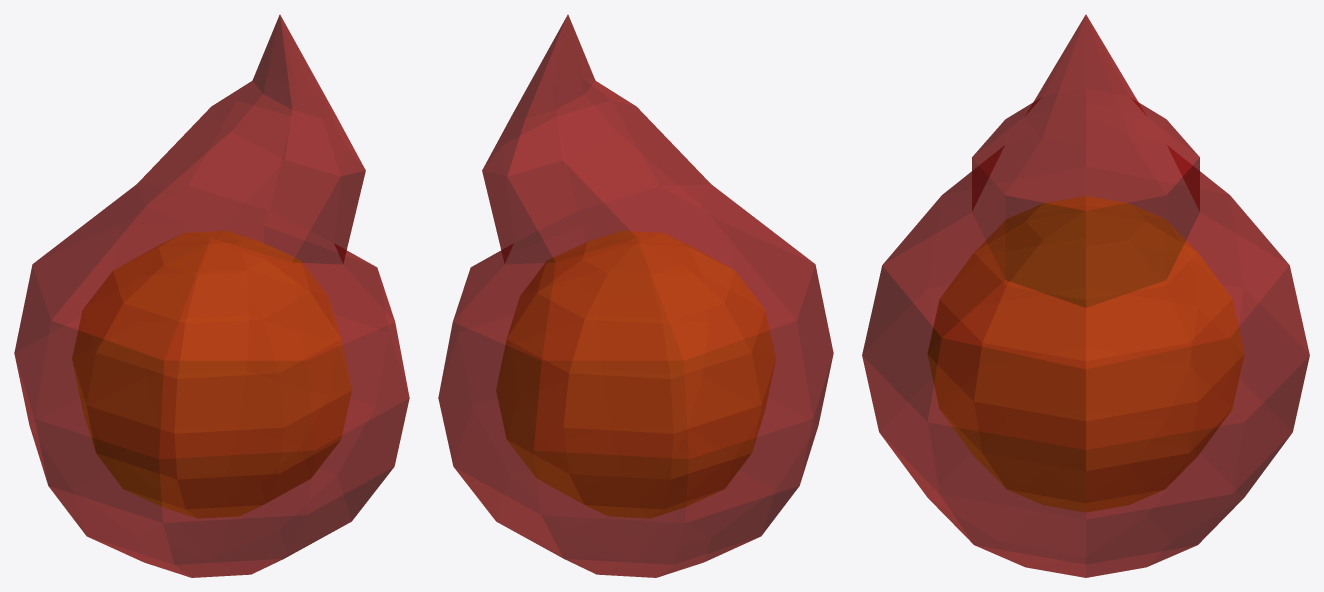
The model's file is fireElement.fbx.
3 renders of one model, left to right at view 1: azimuth 30°, elevation 25°; view 2: azimuth 150°, elevation 25°; view 3: azimuth 270°, elevation 25°, orthographic. The views are drawn at different scales.
Parts seen in each view (by area): view 1: Faya, InFaya; view 2: Faya, InFaya; view 3: Faya, InFaya.
Part boxes in pixels (<box>): Faya: <box>14,14,409,577</box>; InFaya: <box>72,231,351,518</box>; Faya: <box>438,14,833,577</box>; InFaya: <box>496,231,775,518</box>; Faya: <box>862,14,1309,577</box>; InFaya: <box>927,196,1244,512</box>.
Size of the model in its own units: 0.3281 by 0.4685 by 0.3281.
Materials: 2 (1 with a texture image).
